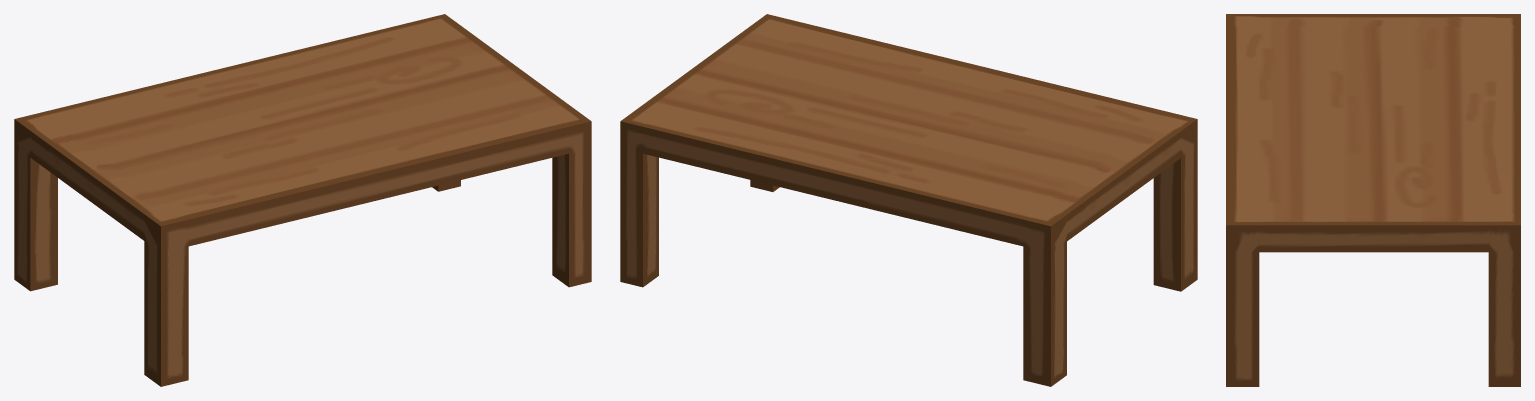
The model's file is big table.fbx.
3 views of the same model, side by side, from view 1: azimuth 30°, elevation 25°; view 2: azimuth 150°, elevation 25°; view 3: azimuth 270°, elevation 25° (orthographic).
Visible parts, largest first — view 1: pCube4; view 2: pCube4; view 3: pCube4.
Part boxes in pixels (x1,y1,x2,y2): pCube4: [14, 14, 591, 386]; pCube4: [620, 14, 1197, 386]; pCube4: [1226, 14, 1520, 386].
Bounding box in the file's own units: 5.23 × 1.86 × 3.08.
